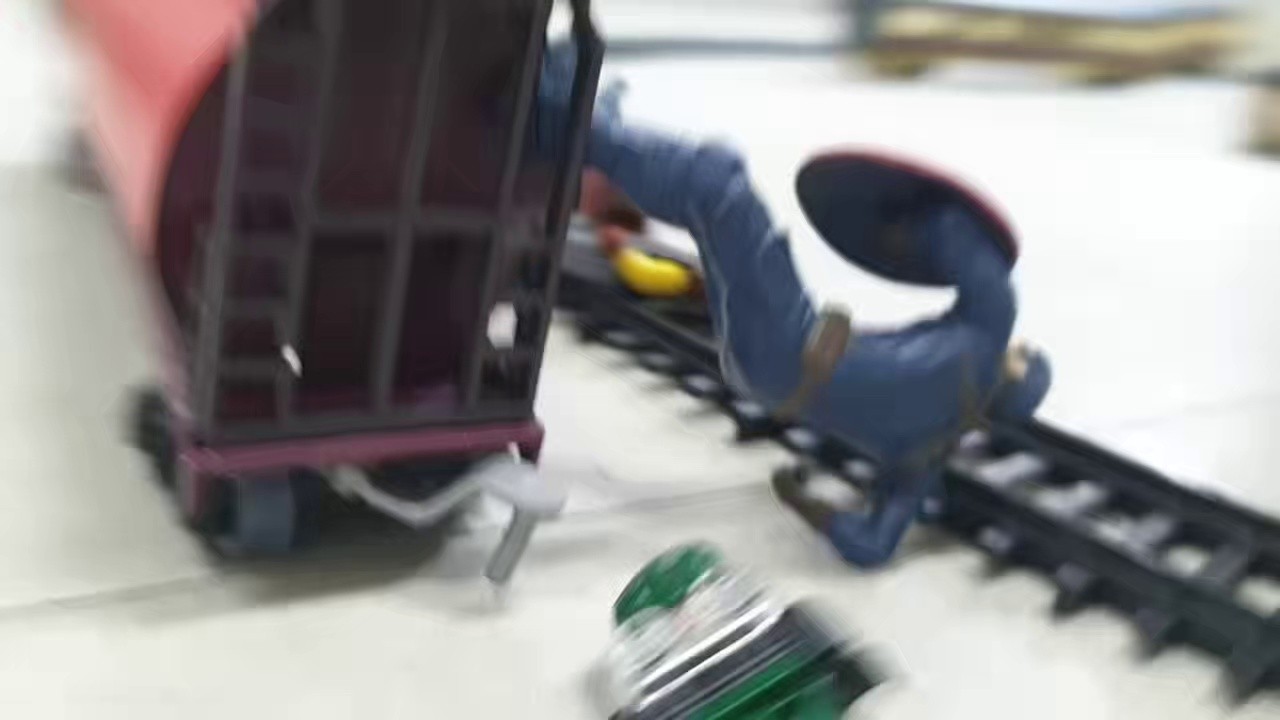people: (520, 35, 1058, 569), (595, 542, 910, 720), (546, 231, 715, 307)
